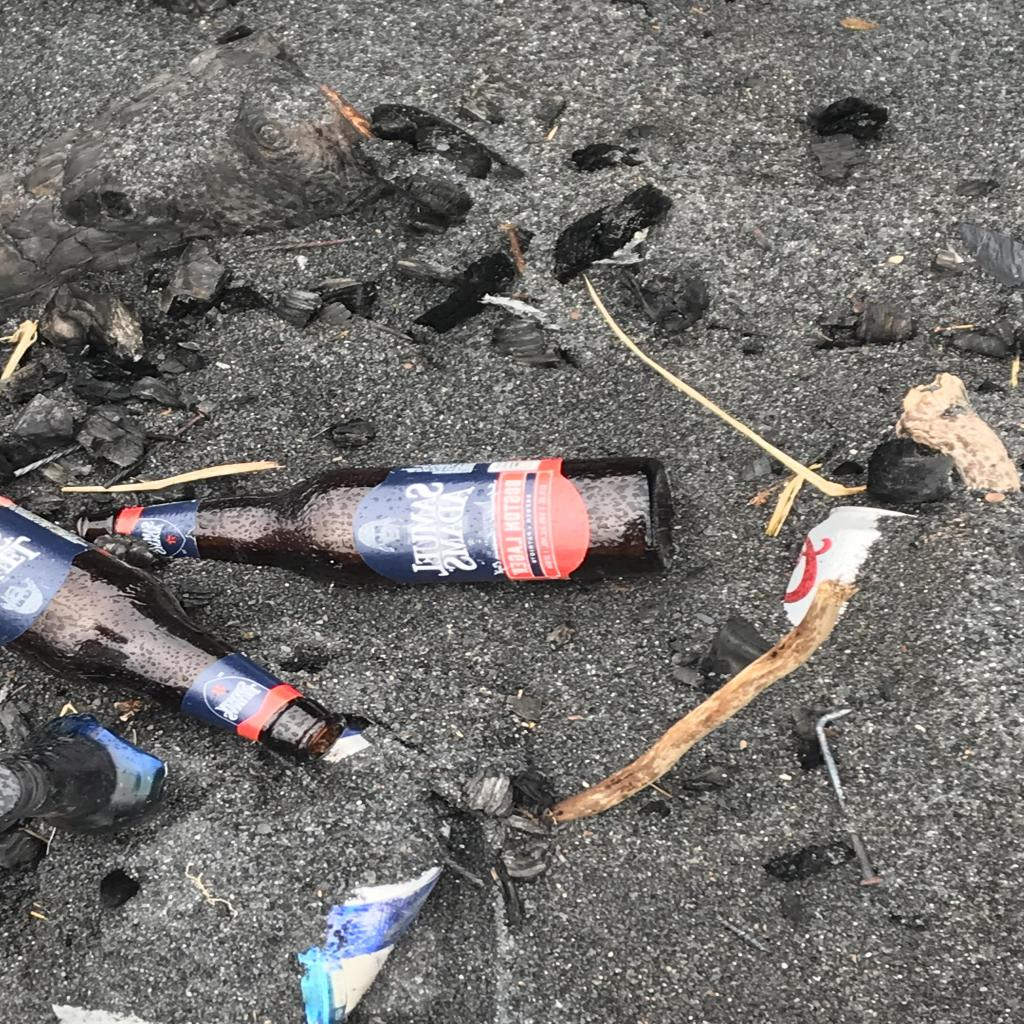Drink can: (782, 506, 918, 626)
Glass bottle: (0, 496, 346, 766), (74, 456, 674, 584), (0, 712, 168, 836)
Unlabeled litter: (297, 727, 447, 1023)
